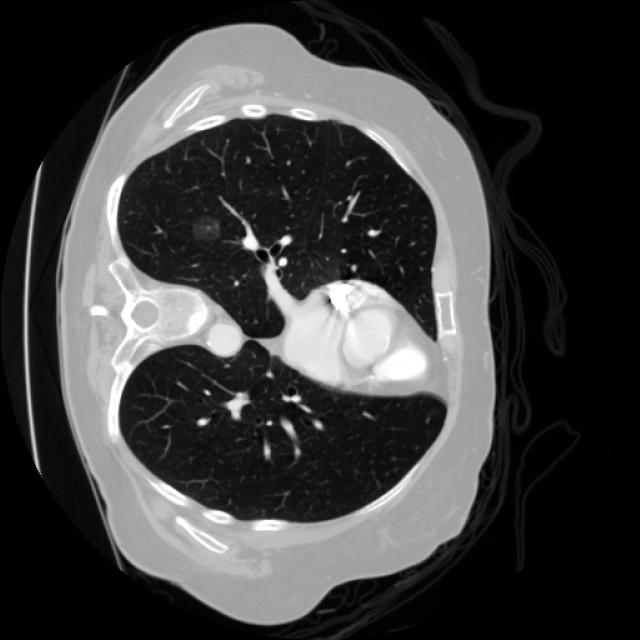nodule: (178, 198, 238, 258)
